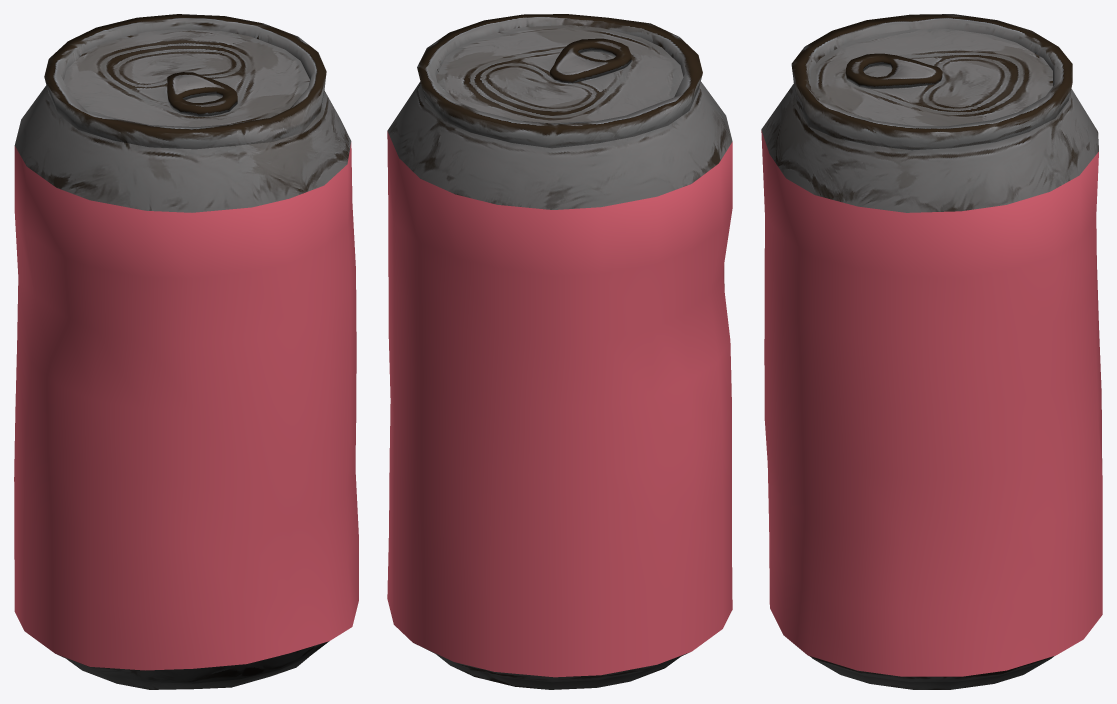
File: low_banki.fbx
3 views of the same model, side by side, from view 1: azimuth 30°, elevation 25°; view 2: azimuth 150°, elevation 25°; view 3: azimuth 270°, elevation 25° (orthographic).
Parts seen in each view (by area): view 1: banka_low2; view 2: banka_low2; view 3: banka_low2.
Boxes of the visible parts, x1,y1,x2,y2 form: banka_low2: (14, 14, 358, 689); banka_low2: (387, 14, 732, 689); banka_low2: (761, 14, 1102, 689).
Bounding box in the file's own units: 40.05 × 40.19 × 72.97.
2 materials, 1 textured.
